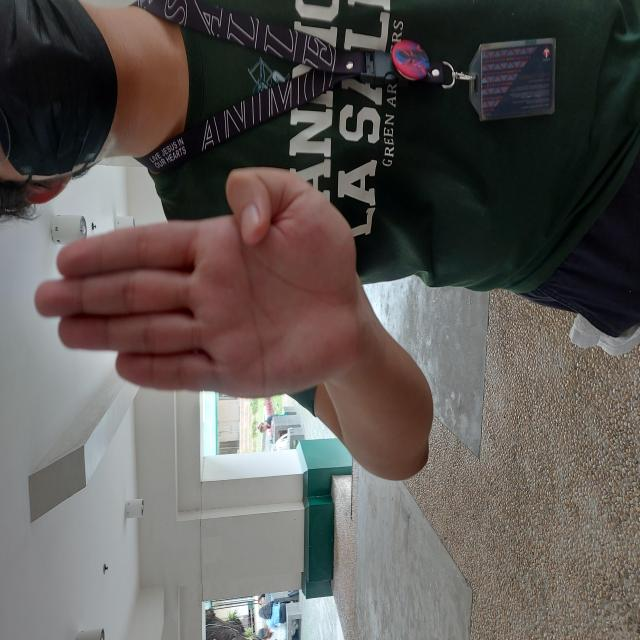B: (240, 32, 474, 360)
